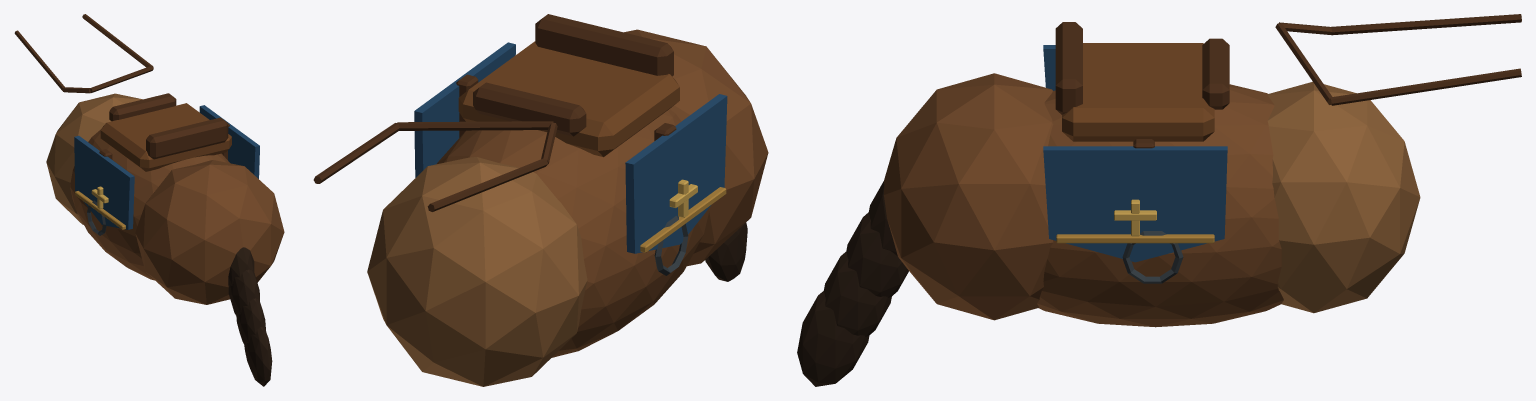
The model's file is Body.glb.
3 renders of one model, left to right at view 1: azimuth 30°, elevation 25°; view 2: azimuth 150°, elevation 25°; view 3: azimuth 270°, elevation 25°, orthographic. The views are drawn at different scales.
Parts seen in each view (by area): view 1: Sculpture; view 2: Sculpture; view 3: Sculpture.
Part boxes in pixels (x1,y1,x2,y2): Sculpture: (14,14,284,386); Sculpture: (313,14,768,386); Sculpture: (797,14,1521,386).
Bounding box in the file's own units: 0.919 × 1.32 × 2.52.
